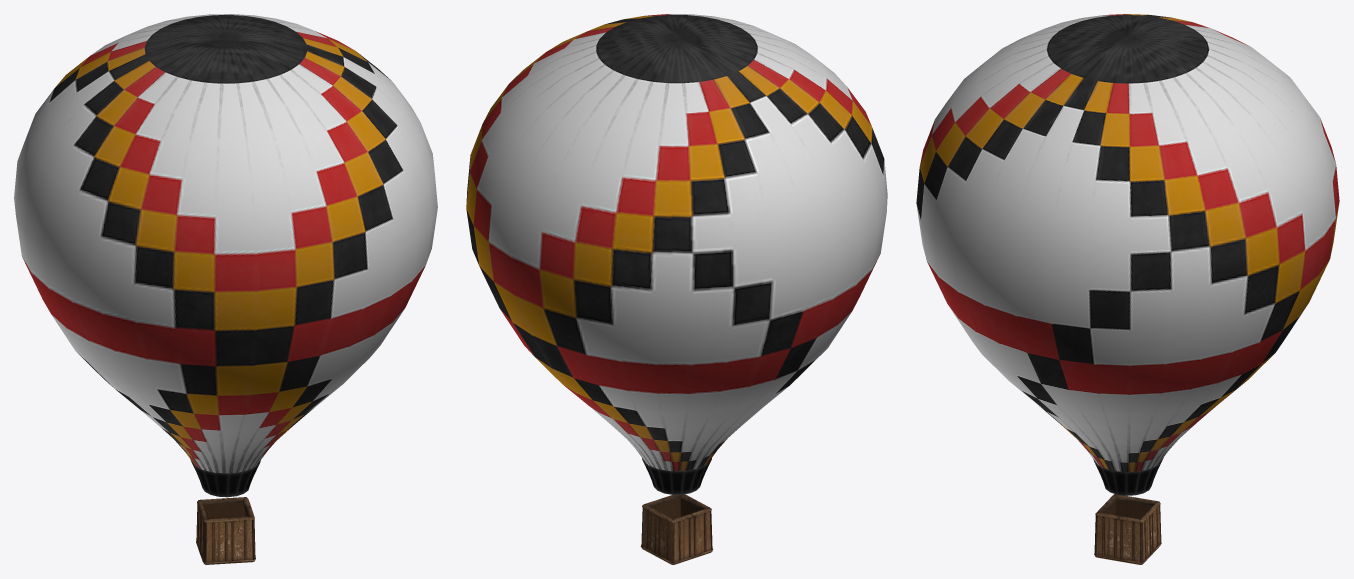
File: Balloon_2.fbx
The picture shows the model from 3 angles, left to right: view 1: azimuth 30°, elevation 25°; view 2: azimuth 150°, elevation 25°; view 3: azimuth 270°, elevation 25°; orthographic projection.
Visible parts, largest first — view 1: Ba_2, crate_2; view 2: Ba_2, crate_2; view 3: Ba_2, crate_2.
Part boxes in pixels (<box>): Ba_2: <box>14,14,437,497</box>; crate_2: <box>196,497,255,564</box>; Ba_2: <box>466,14,887,494</box>; crate_2: <box>640,494,713,564</box>; Ba_2: <box>916,14,1339,495</box>; crate_2: <box>1094,494,1161,564</box>.
Size of the model in its own units: 2265 by 3034 by 2265.
Materials: 2 (2 with a texture image).
